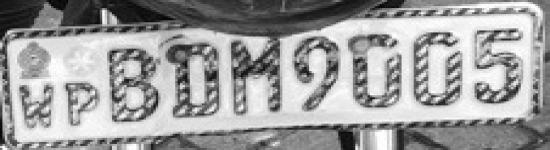0: (413, 32, 462, 104), (355, 36, 400, 107)
5: (474, 31, 522, 102)
9: (298, 38, 338, 109)
B: (108, 49, 160, 120)
D: (172, 43, 220, 115)
M: (231, 40, 280, 112)
P: (67, 82, 100, 126)
W: (20, 83, 54, 127)
